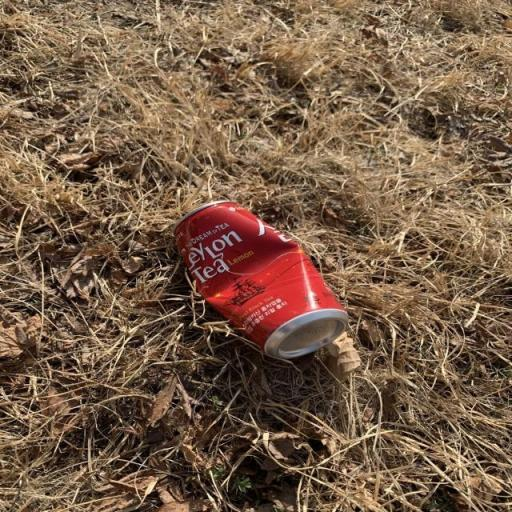metal: (152, 190, 368, 390)
